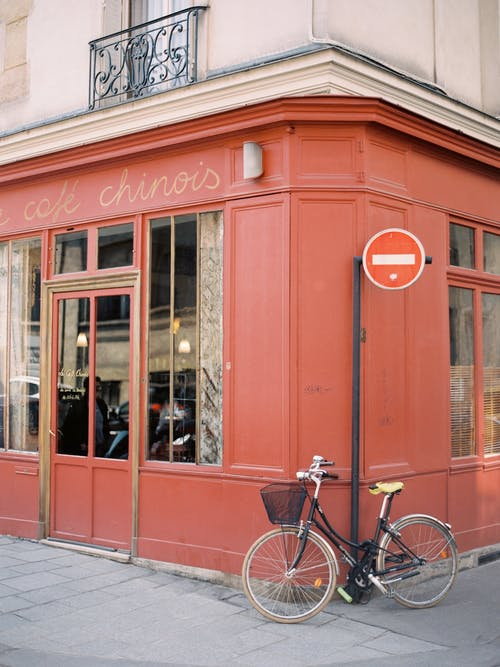bicycle: (237, 448, 463, 628)
